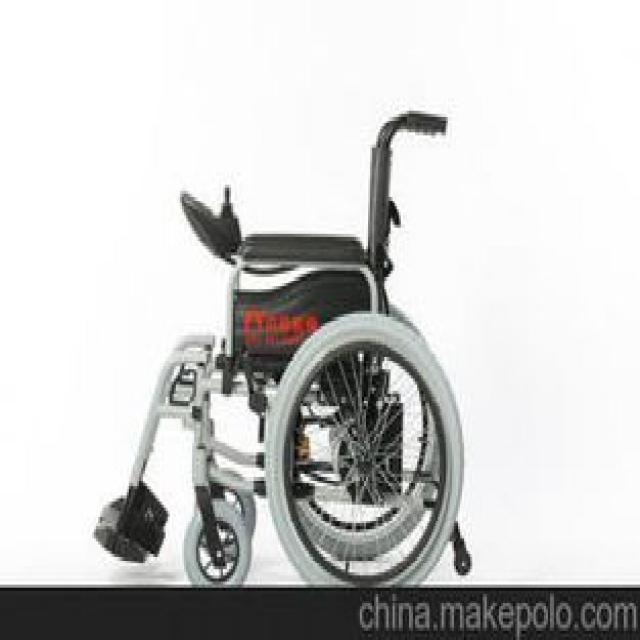wheelchairs: (91, 109, 484, 586)
